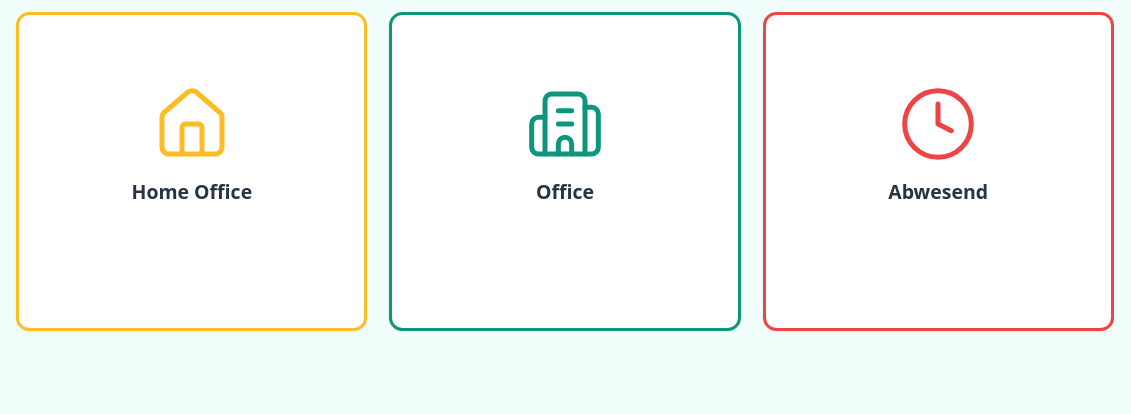
Test: Check-in page: checking in › shows the note after checking in and locks the choice
Click the text "Office" at (565, 191), box x1=536 y1=177 x2=594 y2=206
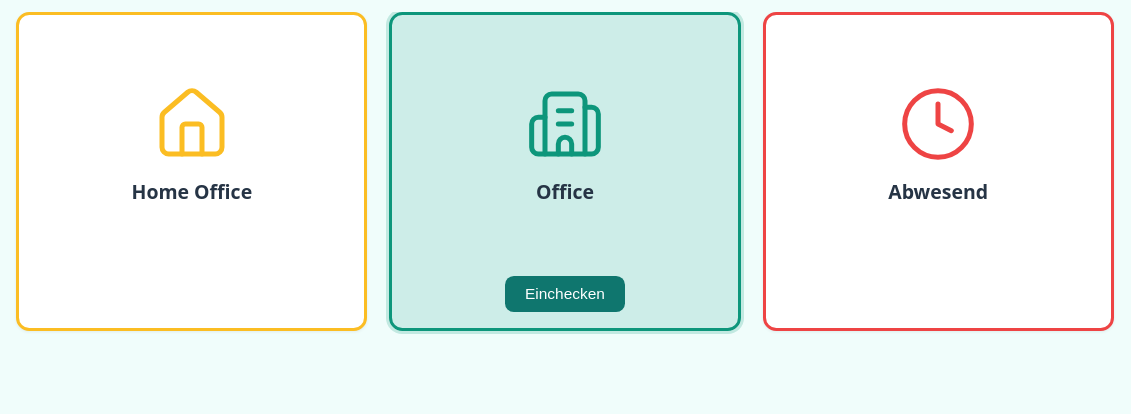
Click the button "Einchecken" at (565, 294), box x1=505 y1=276 x2=625 y2=312
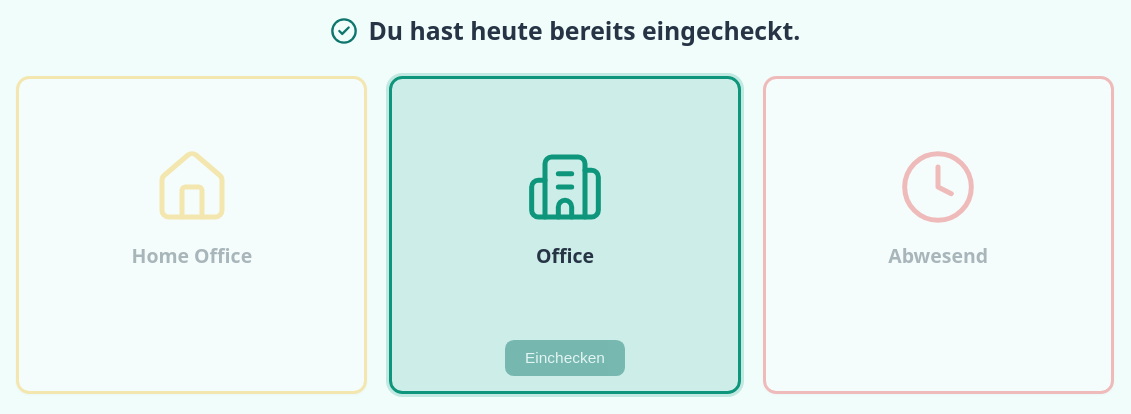
Check: the text "Du hast heute bereits eingecheckt." is shown, box x1=330 y1=12 x2=800 y2=49
Check: the button "Einchecken" is disabled, box x1=505 y1=340 x2=625 y2=376
